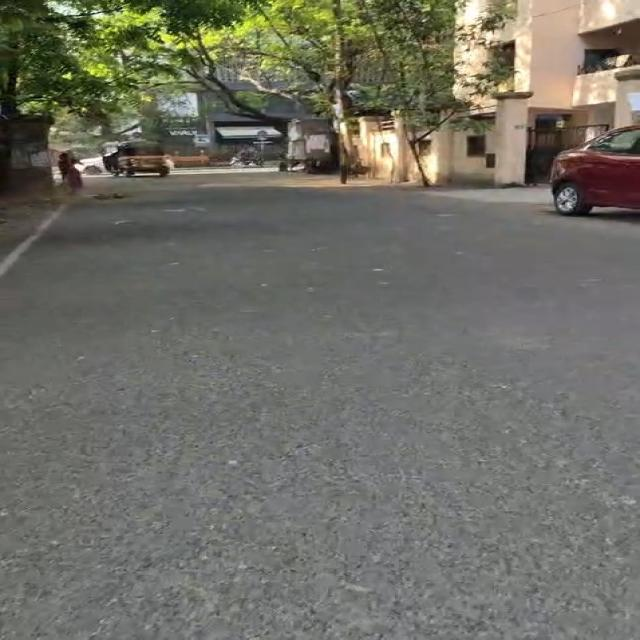obstacle: (333, 0, 349, 184), (118, 141, 171, 176)
vehicle: (551, 125, 639, 215)
